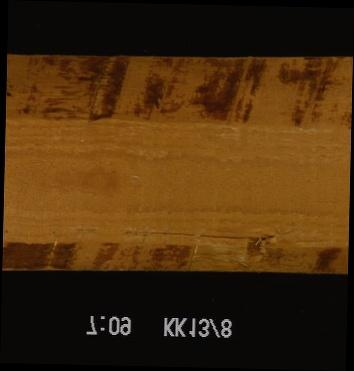split: (131, 229, 274, 246)
wave: (5, 52, 351, 141), (2, 225, 348, 273)
